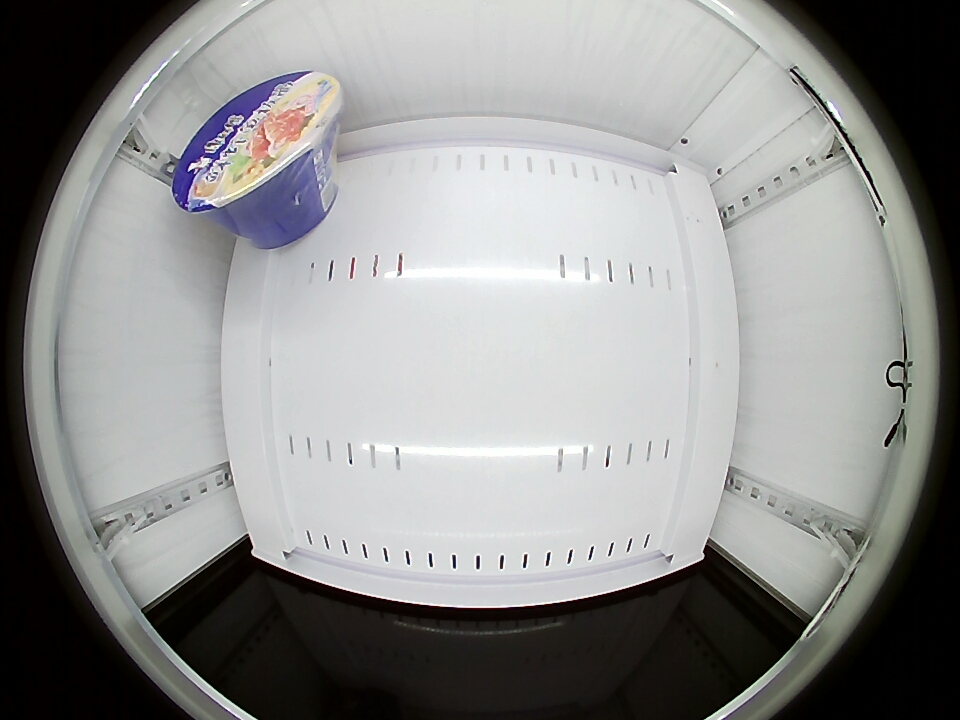xianxiayuban: (170, 71, 342, 219)
